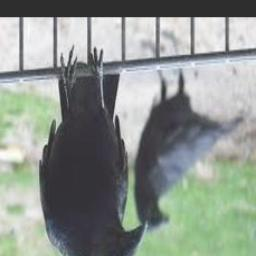Crow: (39, 45, 146, 256), (134, 28, 244, 230)
